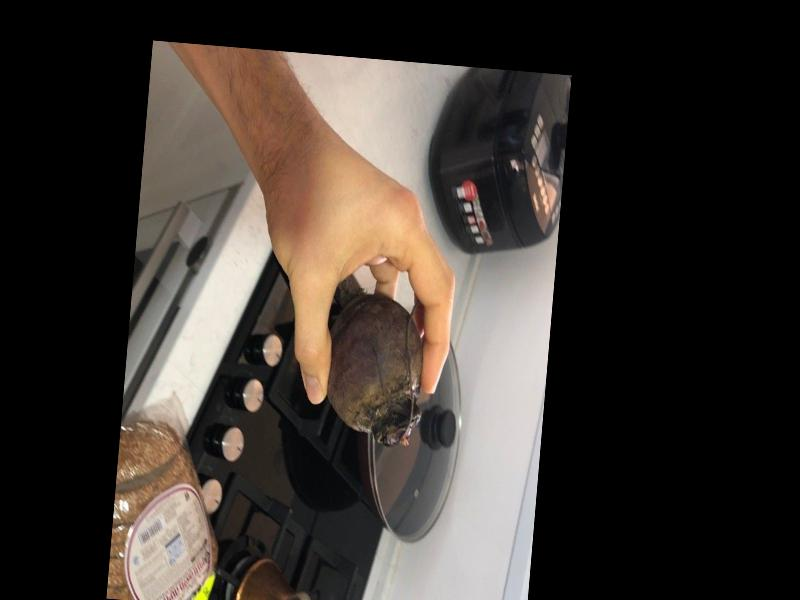Beet: (322, 281, 429, 449)
